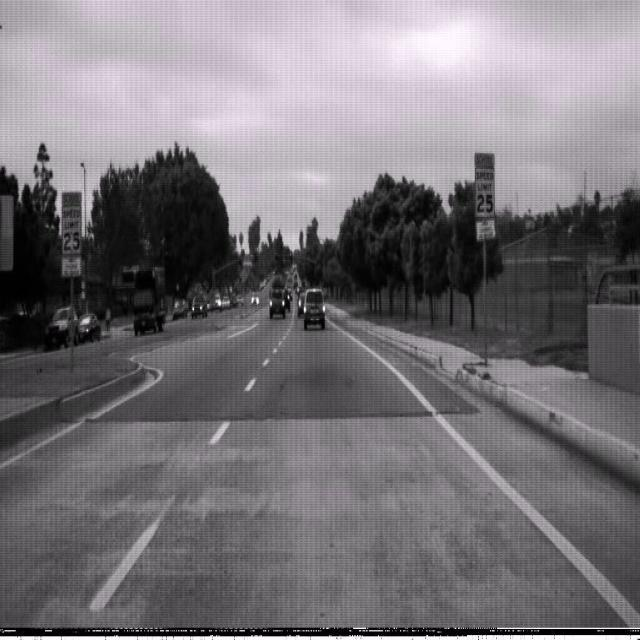speedLimit25: (474, 151, 496, 241), (60, 190, 82, 277)
